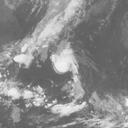cyclone: (52, 48, 77, 74)
